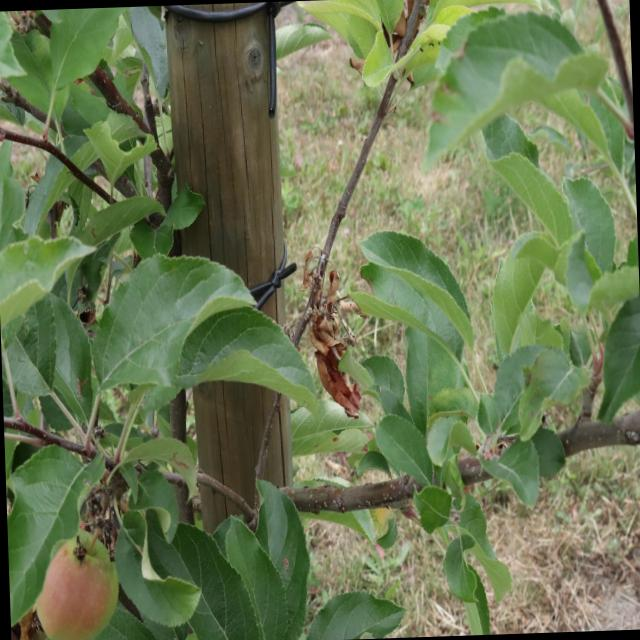-FireBlight-: (301, 274, 369, 420)
